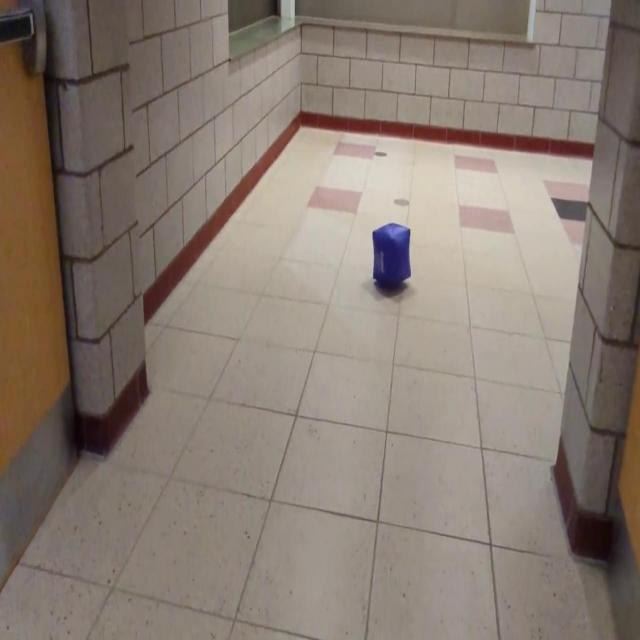frc_cube: (371, 222, 413, 288)
